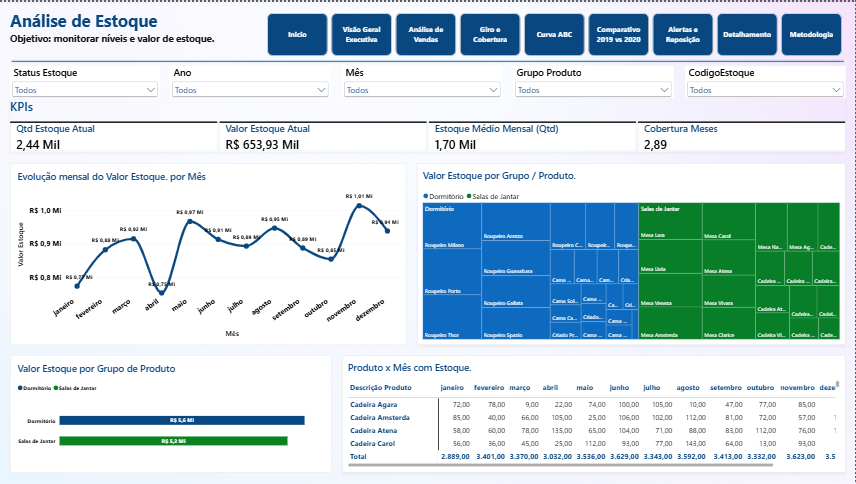

The dashboard page shown, as its layout file describes it:
{"tool":"powerbi","page":{"name":"Análise de Estoque","canvas":[1920,1080],"ordinal":3},"visuals":[{"type":"textbox","box":[24,0,552,120],"z":0},{"type":"pageNavigator","title":"Áreas de Análise:","box":[600,24,1296,96],"z":1000},{"type":"shape","box":[24,120,1872,24],"z":2000},{"type":"cardVisual","title":"KPIs","fields":{"Data":["MedidasDeCorrecao.Qtd Estoque Atual","MedidasDeCorrecao.Valor Estoque Atual","MedidasDeCorrecao.Estoque Médio Mensal (Qtd)","Medidas.Cobertura Meses"]},"box":[24,216,1872,120],"z":3000},{"type":"lineChart","title":"Evolução mensal do Valor Estoque. por Mês","fields":{"Category":["dCalendario.Mês"],"Y":["Medidas.Valor Estoque"]},"box":[24,360,888,408],"z":4000},{"type":"barChart","title":"Valor Estoque por Grupo de Produto","fields":{"Category":["dGrupoProduto.Grupo Produto"],"Series":["dGrupoProduto.Grupo Produto"],"Y":["Medidas.Valor Estoque"]},"box":[24,792,720,264],"z":5000},{"type":"treemap","title":"Valor Estoque por Grupo / Produto.","fields":{"Details":["dProduto.Descrição Produto"],"Group":["dGrupoProduto.Grupo Produto"],"Values":["Medidas.Valor Estoque"]},"box":[936,360,960,408],"z":6000},{"type":"pivotTable","title":"Produto x Mês com Estoque.","fields":{"Columns":["dCalendario.Mês"],"Rows":["dProduto.Descrição Produto"],"Values":["Medidas.Qtd Estoque"]},"box":[768,792,1128,264],"z":7000},{"type":"slicer","fields":{"Values":["dCalendario.Ano"]},"box":[384,144,360,72],"z":8000},{"type":"slicer","fields":{"Values":["dCalendario.Mês"]},"box":[768,144,360,72],"z":9000},{"type":"slicer","fields":{"Values":["dGrupoProduto.Grupo Produto"]},"box":[1152,144,360,72],"z":10000},{"type":"slicer","fields":{"Values":["dEstoque.CodigoEstoque"]},"box":[1536,144,360,72],"z":11000},{"type":"slicer","fields":{"Values":["dProduto.Status Estoque (coluna)"]},"box":[24,144,336,72],"z":12000}]}

Visuals, with their boxes in screenshot pixels (x1, y1, x2, y2), scaled from the page's 1920x1080 canvas onto the 856x484 screenshot:
textbox: (11,0,257,54)
"Áreas de Análise:" pageNavigator: (268,11,845,54)
shape: (11,54,845,65)
"KPIs" cardVisual: (11,97,845,151)
"Evolução mensal do Valor Estoque. por Mês" lineChart: (11,161,407,344)
"Valor Estoque por Grupo de Produto" barChart: (11,355,332,473)
"Valor Estoque por Grupo / Produto." treemap: (417,161,845,344)
"Produto x Mês com Estoque." pivotTable: (342,355,845,473)
slicer - dCalendario.Ano: (171,65,332,97)
slicer - dCalendario.Mês: (342,65,503,97)
slicer - dGrupoProduto.Grupo Produto: (514,65,674,97)
slicer - dEstoque.CodigoEstoque: (685,65,845,97)
slicer - dProduto.Status Estoque (coluna): (11,65,160,97)
